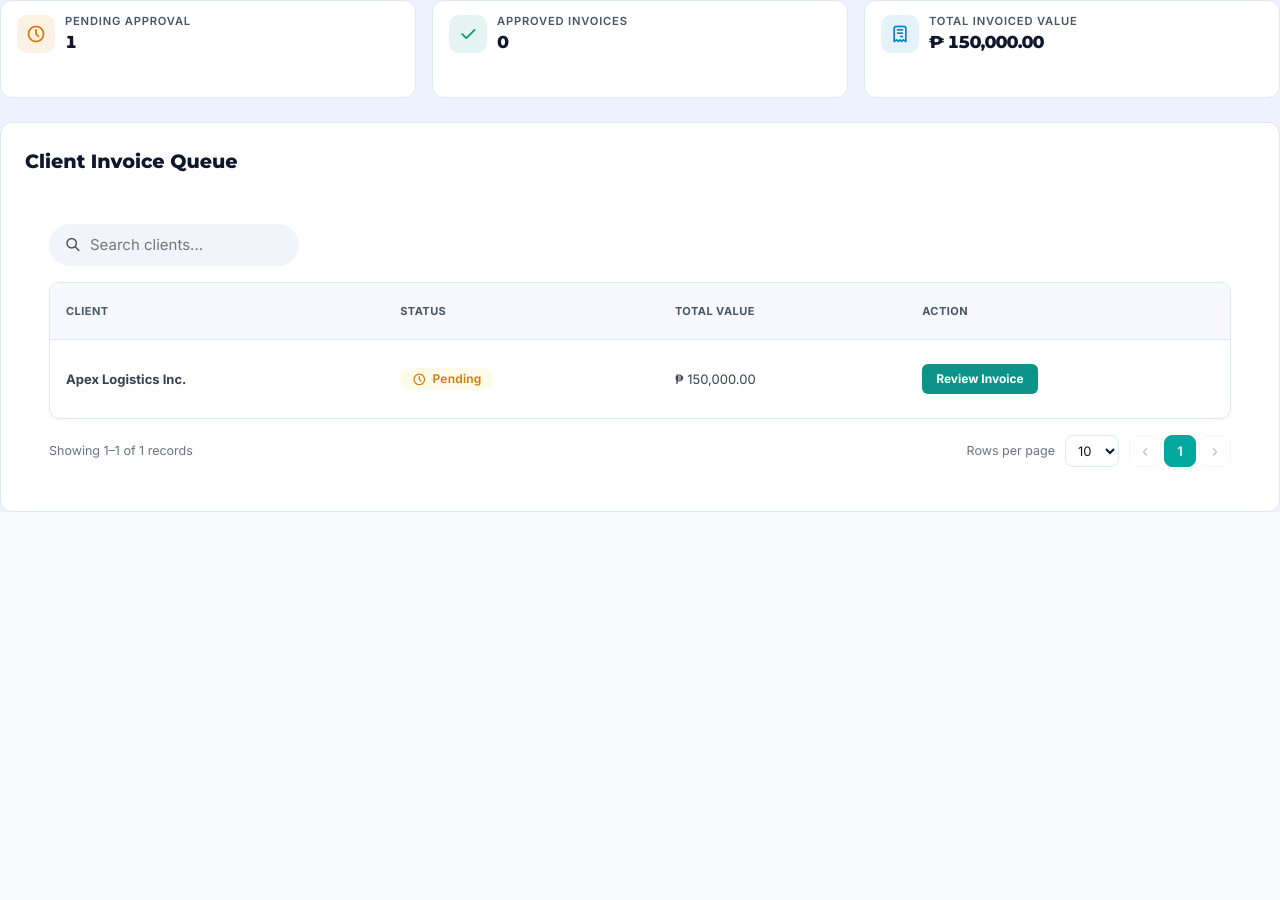
Test case: EMP-001 (Finance Manager) — Complete Page-by-Page Workflow & Verification › Page 5: /invoice-review (Invoice Review) › loads pending invoice and managerial approval calls act endpoint
Later steps or results of the test are not shown.
Check: the text "Apex Logistics Inc." is shown, box x1=66 y1=370 x2=186 y2=386
Note: Open review modal via card "Review Invoice" button
What coordinates should you click on to do the following:
click the button "Review Invoice"
I would click on:
 (980, 379)
Its box is x1=922 y1=364 x2=1038 y2=394.
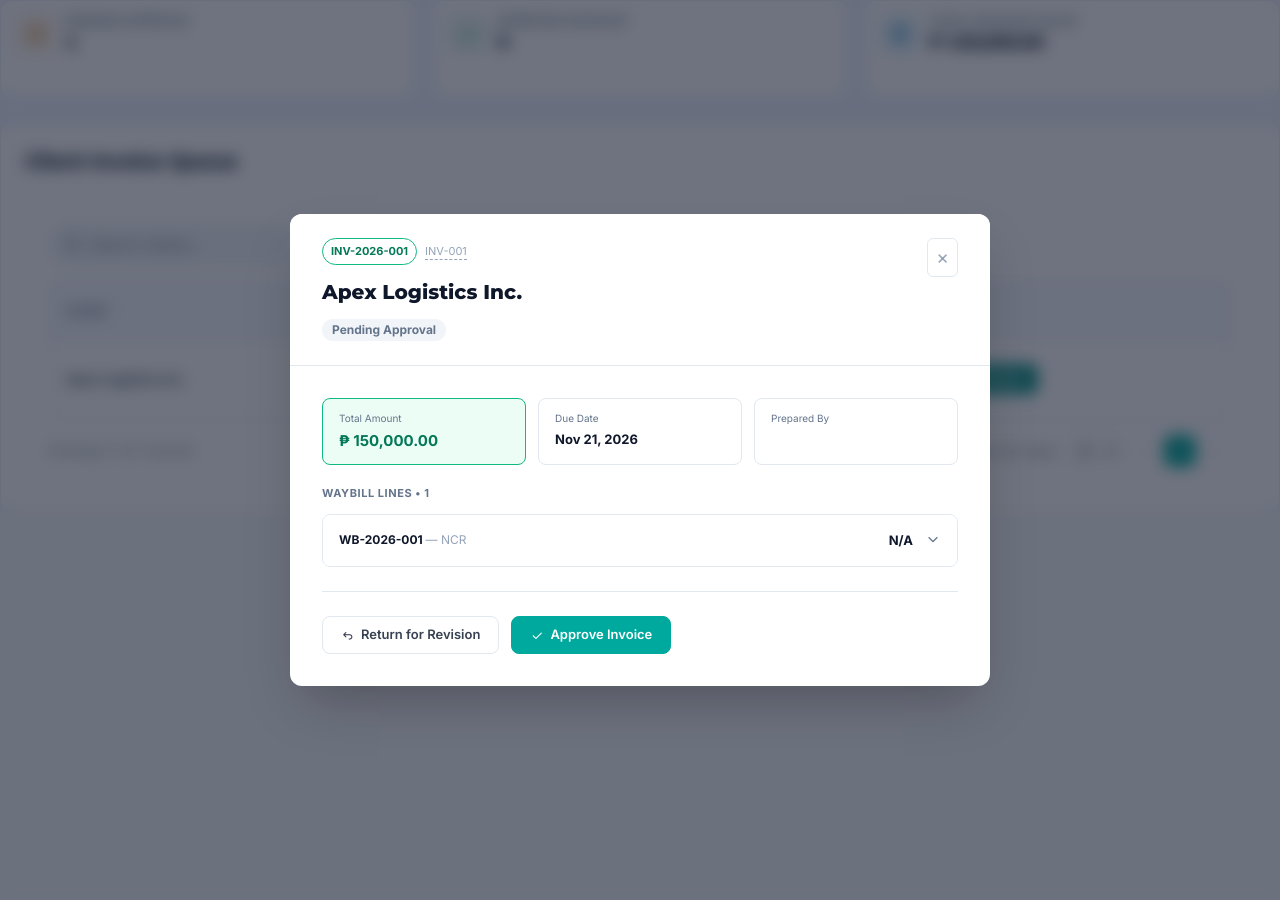
Check: the button "Approve Invoice" is shown, box x1=511 y1=616 x2=671 y2=654
